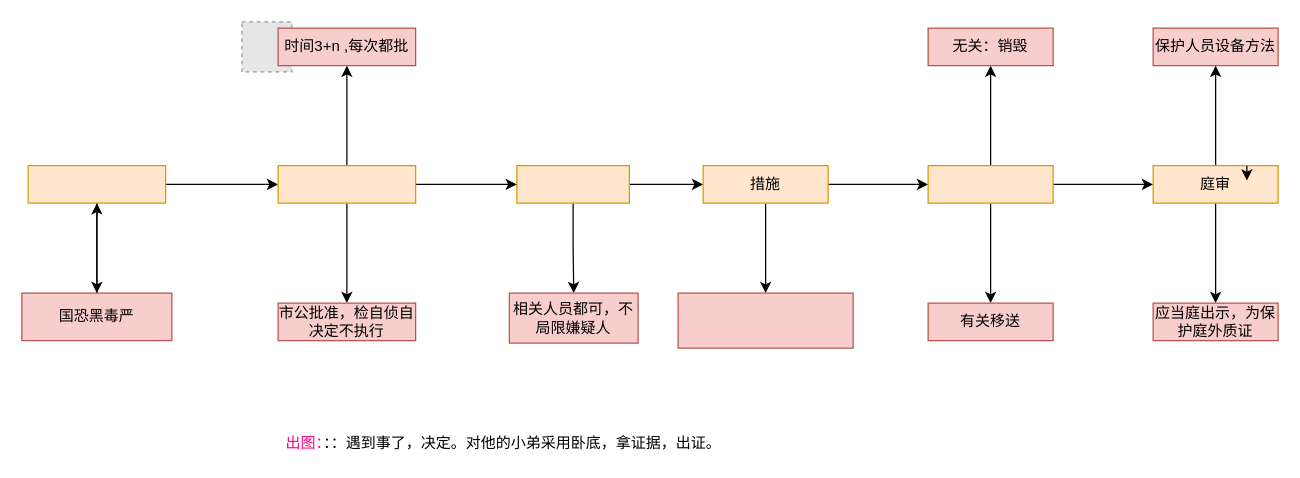
Image size: 1300x478. Some labels were removed from this diagram. Grey dashed boxes stand in for pictures. The shapes that lost their labels are listed below. From the top down, each one's centre as x and y in pixels, then its label:
pixel 96 183: 技术侦查范围
pixel 346 183: 谁决定， 决定啥
pixel 572 183: 对象
pixel 990 183: 证据到手
pixel 765 320: 县公决定，隐匿身份，控制交付（非重大安全，不引起犯罪）
